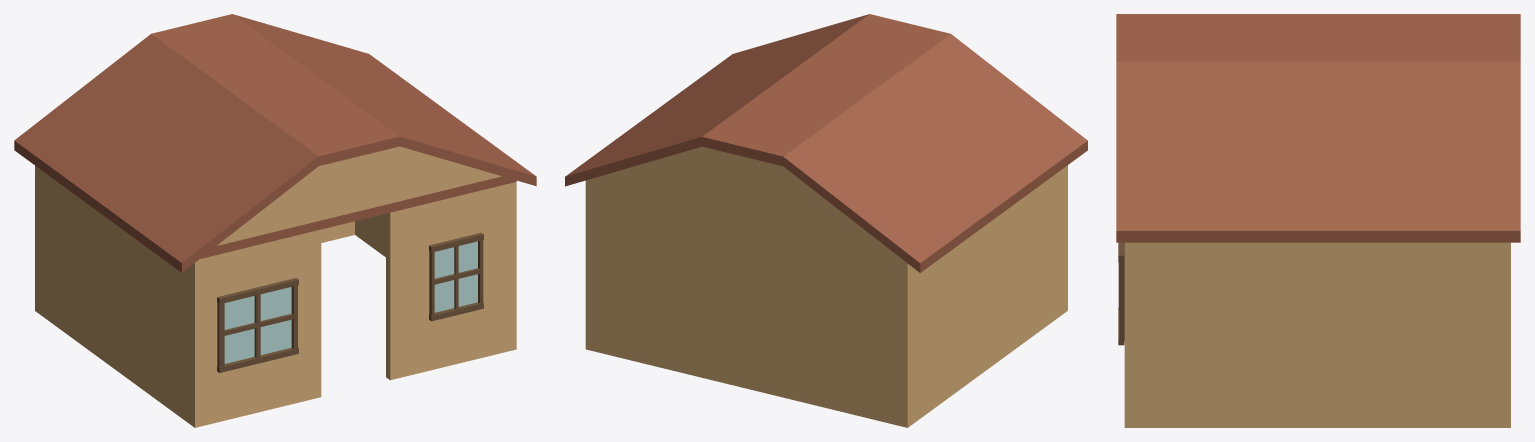
The model's file is House_03.fbx.
3 renders of one model, left to right at view 1: azimuth 30°, elevation 25°; view 2: azimuth 150°, elevation 25°; view 3: azimuth 270°, elevation 25°, orthographic. The views are drawn at different scales.
Parts seen in each view (by area): view 1: House; view 2: House; view 3: House.
Boxes of the visible parts, box(x1,y1,x2,y2) form: House: box(14, 14, 536, 427); House: box(565, 14, 1087, 427); House: box(1116, 14, 1520, 427).
Size of the model in its own units: 421 by 277 by 344.
